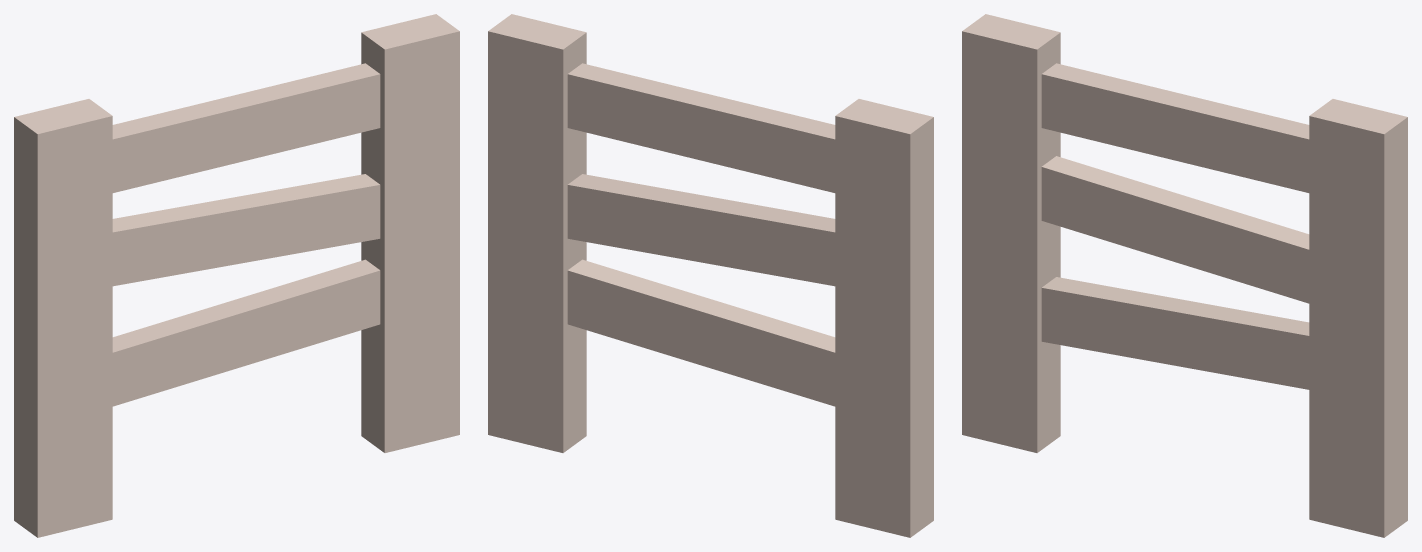
File: fence_half.fbx
The picture shows the model from 3 angles, left to right: view 1: azimuth 30°, elevation 25°; view 2: azimuth 150°, elevation 25°; view 3: azimuth 330°, elevation 25°; orthographic projection.
Visible parts, largest first — view 1: pCube6; view 2: pCube6; view 3: pCube6.
Part boxes in pixels (x1=…): pCube6: x1=14, y1=14, x2=459, y2=537; pCube6: x1=488, y1=14, x2=933, y2=537; pCube6: x1=962, y1=14, x2=1407, y2=537.
Bounding box in the file's own units: 146 × 133 × 14.12.
